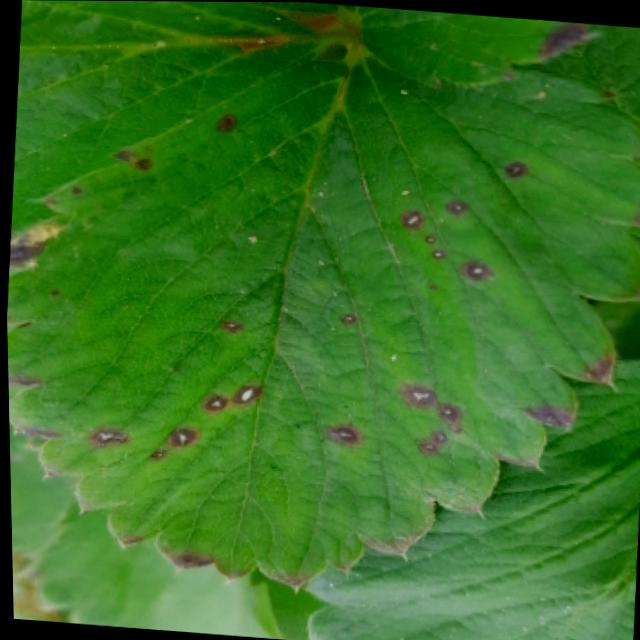Leaf Spot: (5, 37, 640, 594), (9, 0, 334, 243)
